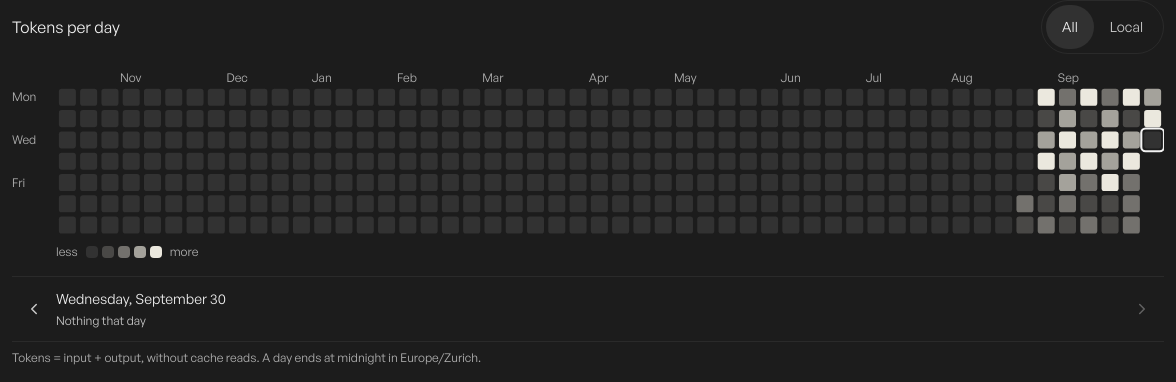
Test case: UsageHeatmap › starts on today and steps through the days with 44 px arrows
The width and height of the screenshot is (1176, 382).
Expected: the element with test id "heatmap-day" shows "Wednesday, September 30", [56,290,226,307]
Expected: the button named "Next day" is disabled, [1120,287,1164,331]
Click the button named "Previous day" at (34, 309), box [12,287,56,331]
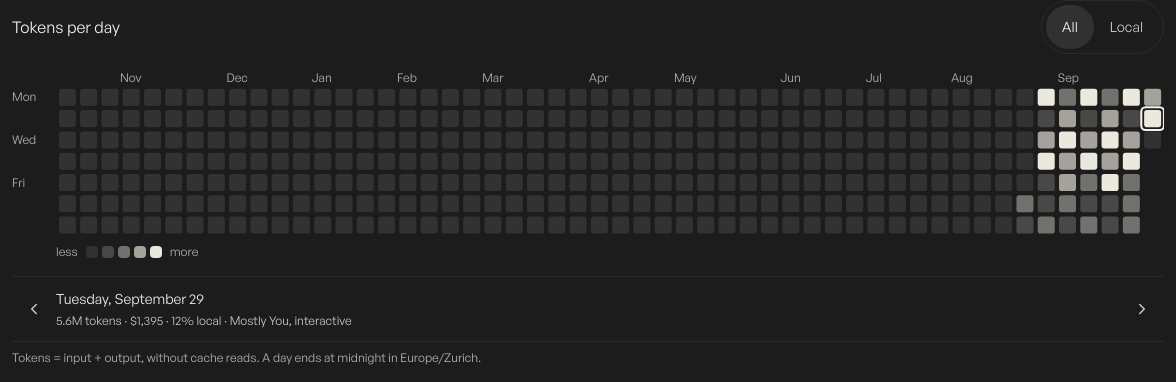
Result: the element with test id "heatmap-day" shows "Tuesday, September 29" at [56,290,204,307]
